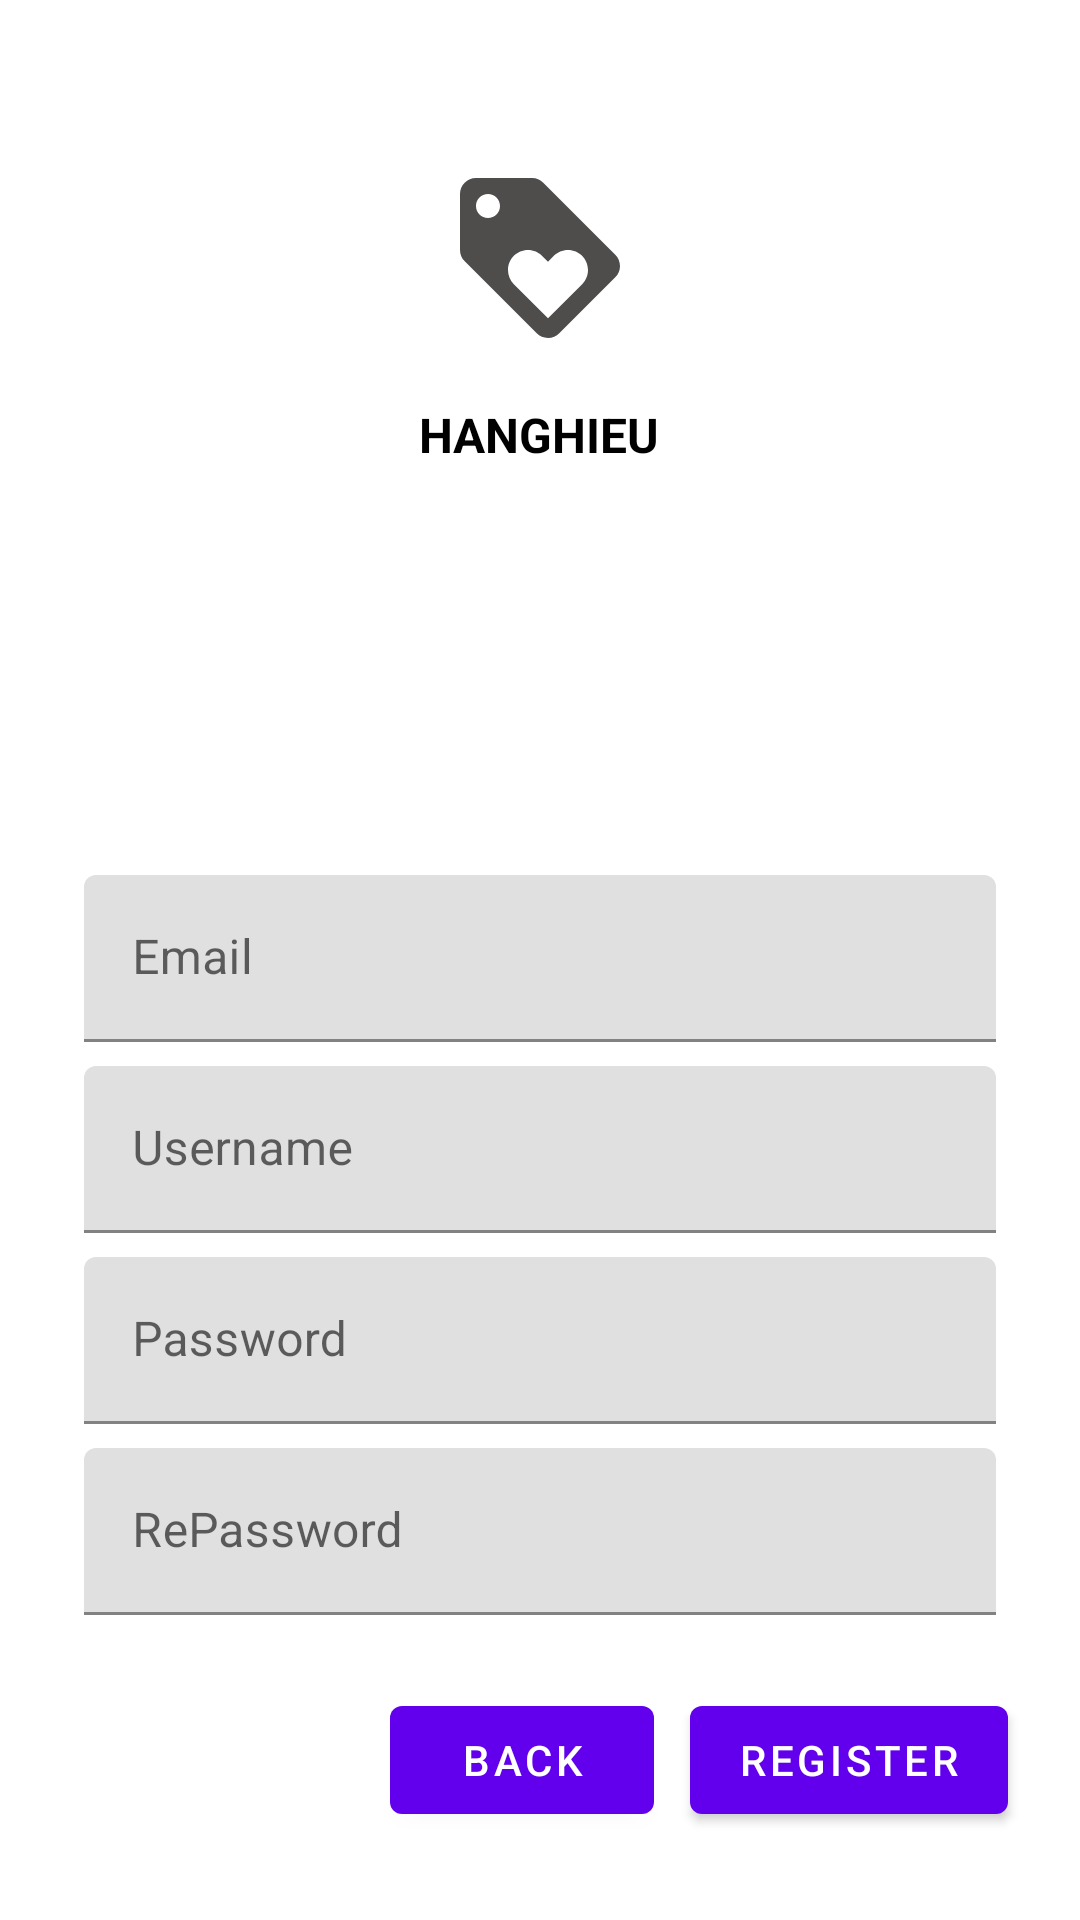

Screen size 1080×1920. Icon name, then its box in pixels as (x1, y1, x2, y2):
loyalty: (460, 178, 620, 338)
